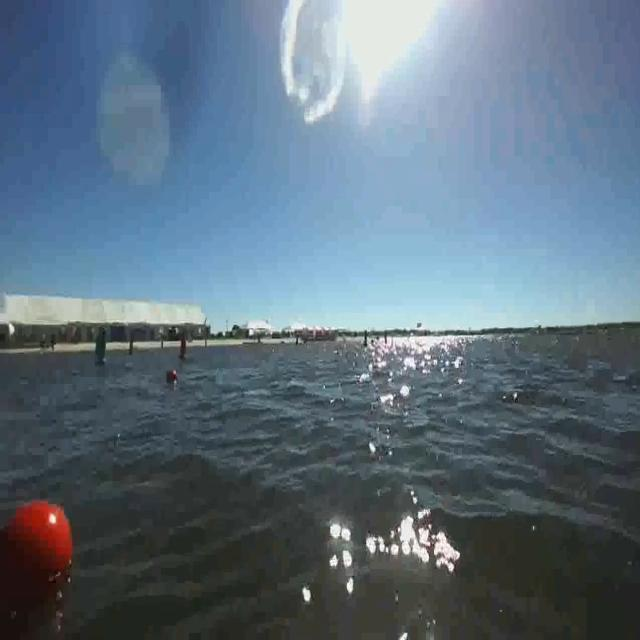green-column-buoy: (94, 329, 110, 368)
red-buoy: (0, 498, 72, 589), (168, 371, 178, 383)
red-column-buoy: (182, 337, 190, 361)
